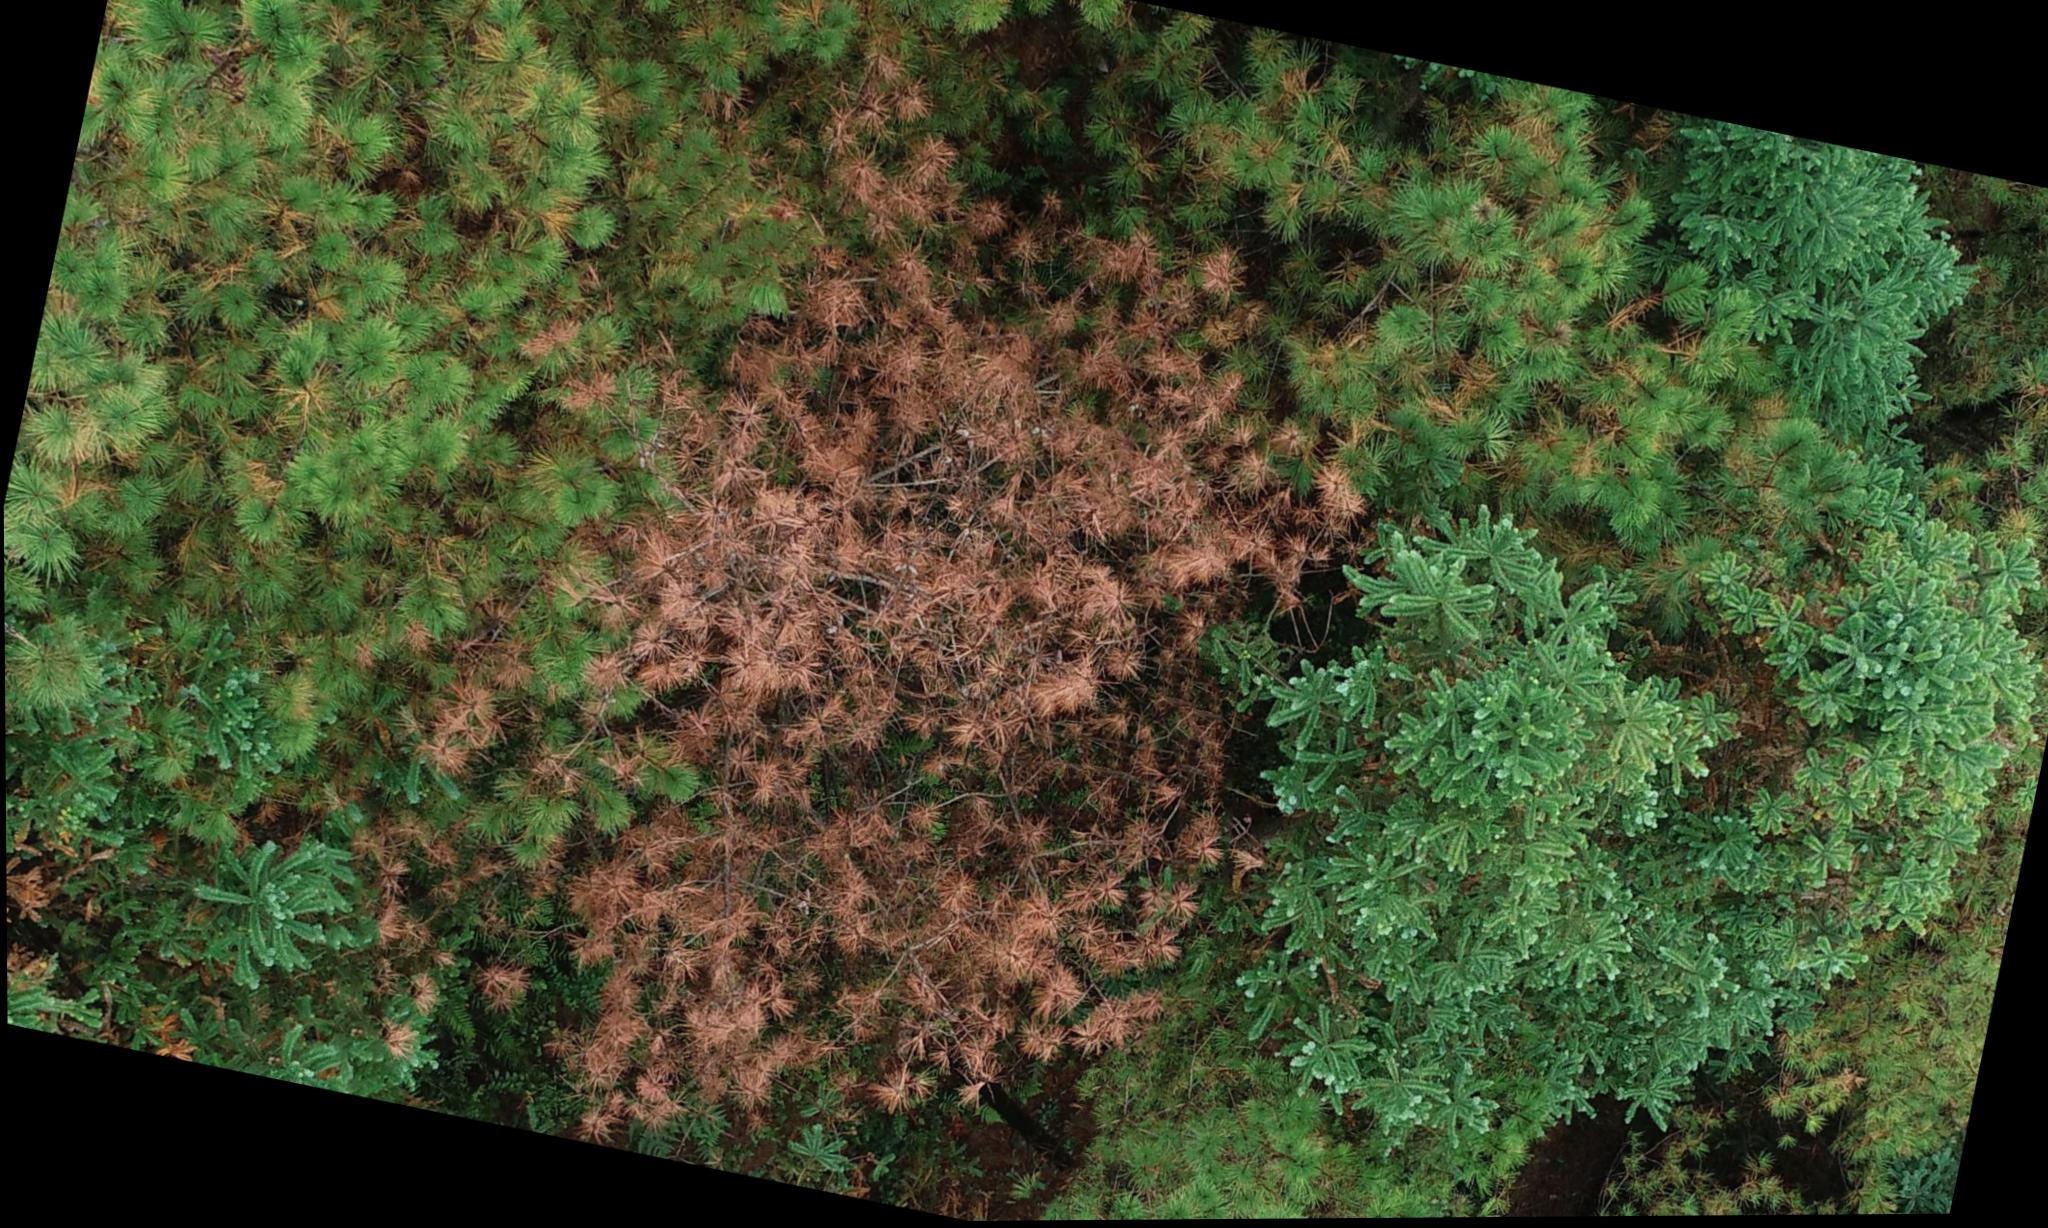heavy: (450, 0, 1408, 1225)
light: (31, 0, 653, 646), (1357, 98, 1824, 575)
